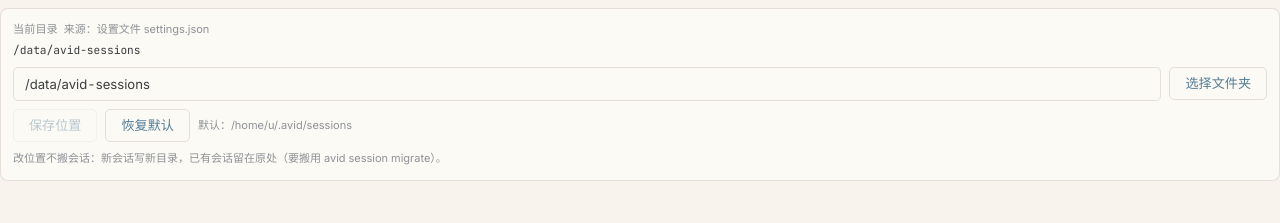
SessionsSection（设置 · 会话存储） › 恢复默认只在来源是设置文件时可用，点了就写空串
Click the button "恢复默认" at (148, 125), box [106,109,190,142]
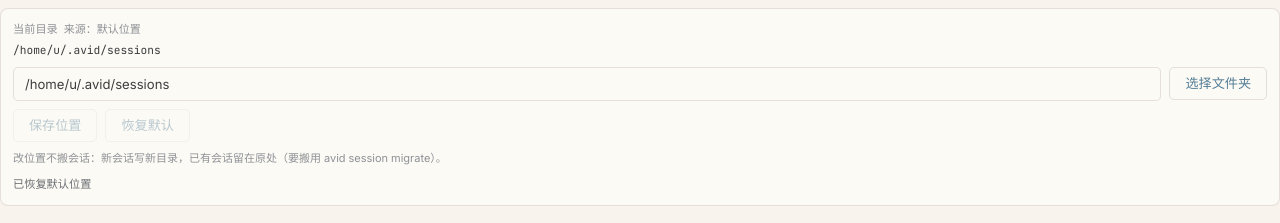
Expected: the text "已恢复默认位置" is shown, [13,177,91,191]
